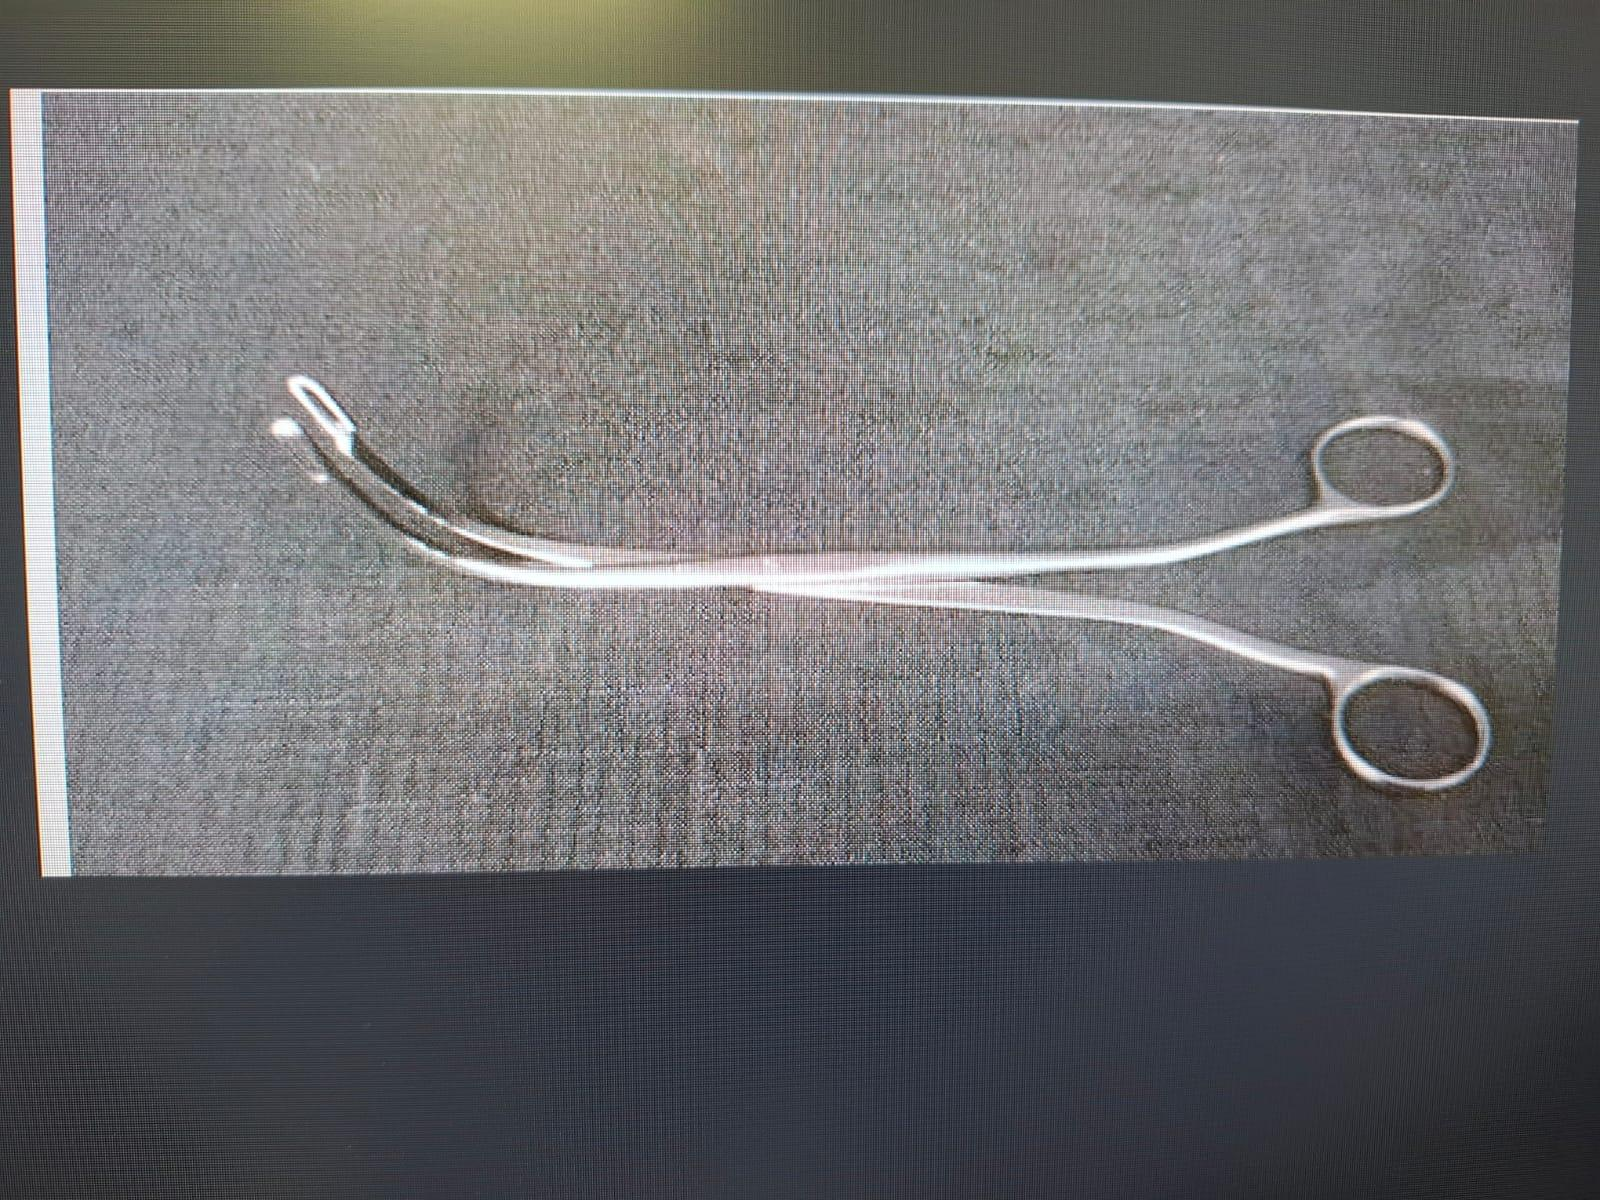Randall Forceps: (262, 312, 1506, 806)
